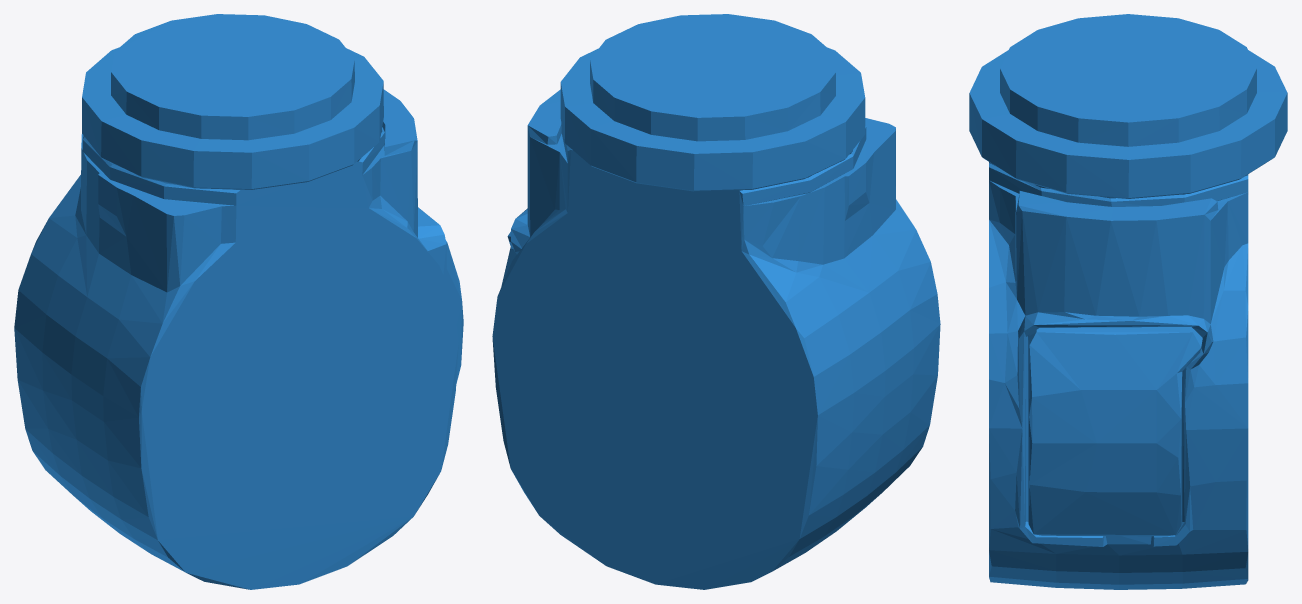
File: DensoVS068Link5.dae
3 renders of one model, left to right at view 1: azimuth 30°, elevation 25°; view 2: azimuth 150°, elevation 25°; view 3: azimuth 270°, elevation 25°, orthographic. The views are drawn at different scales.
Visible parts, largest first — view 1: DensoVS068Link5; view 2: DensoVS068Link5; view 3: DensoVS068Link5.
Part boxes in pixels (left/top/right/bottom): DensoVS068Link5: left=14, top=14, right=463, bottom=589; DensoVS068Link5: left=492, top=14, right=940, bottom=589; DensoVS068Link5: left=969, top=14, right=1287, bottom=589.
Size of the model in its own units: 0.0869 by 0.065 by 0.1125.
